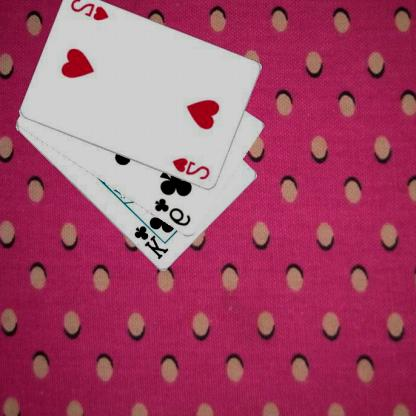2H: (172, 156, 212, 182), (70, 0, 113, 22)
6C: (153, 196, 194, 228)
KC: (134, 215, 172, 261)
